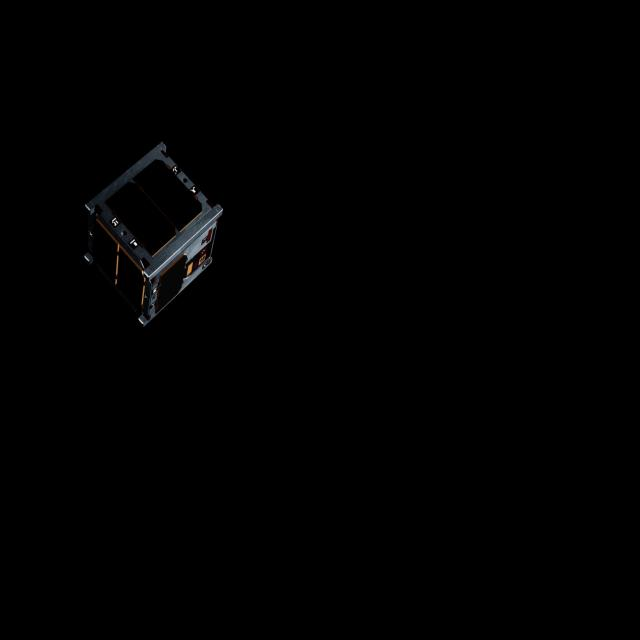medium_debris: (80, 138, 231, 328)
